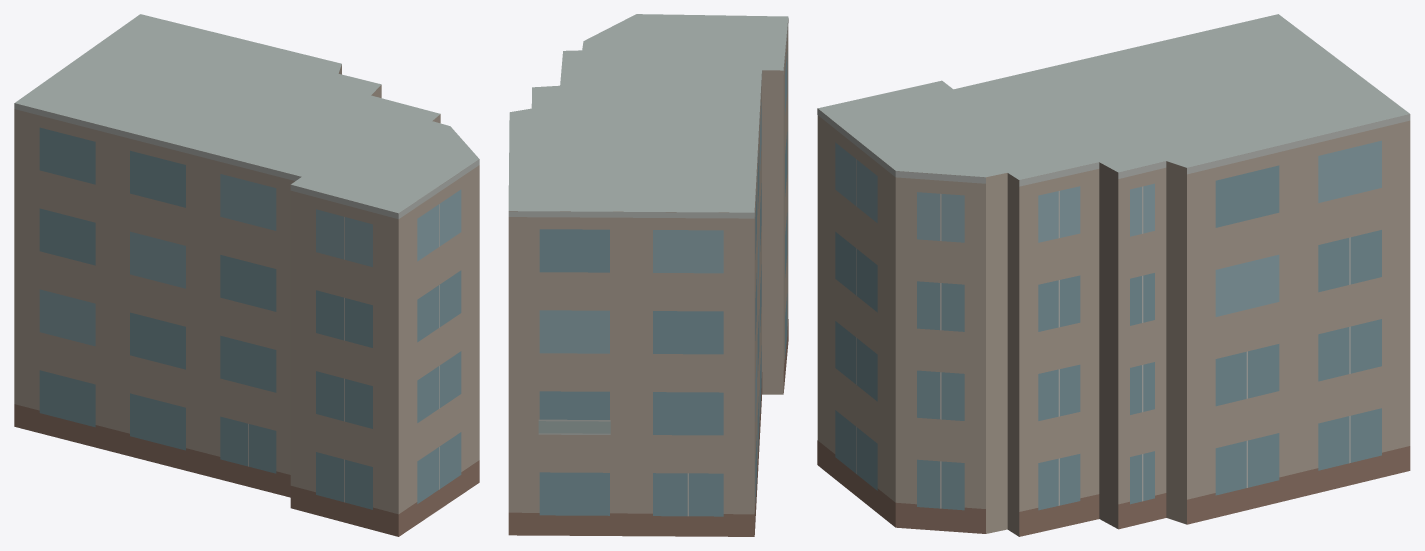
File: survey-upis-32781428.glb
3 renders of one model, left to right at view 1: azimuth 30°, elevation 25°; view 2: azimuth 150°, elevation 25°; view 3: azimuth 270°, elevation 25°, orthographic. The views are drawn at different scales.
Visible parts, largest first — view 1: survey-upis-32781428.tmp; view 2: survey-upis-32781428.tmp; view 3: survey-upis-32781428.tmp.
Part boxes in pixels (x1,y1,x2,y2): survey-upis-32781428.tmp: (14, 14, 479, 536); survey-upis-32781428.tmp: (508, 14, 788, 536); survey-upis-32781428.tmp: (817, 14, 1410, 536).
Size of the model in its own units: 13.24 by 13.25 by 19.96.
